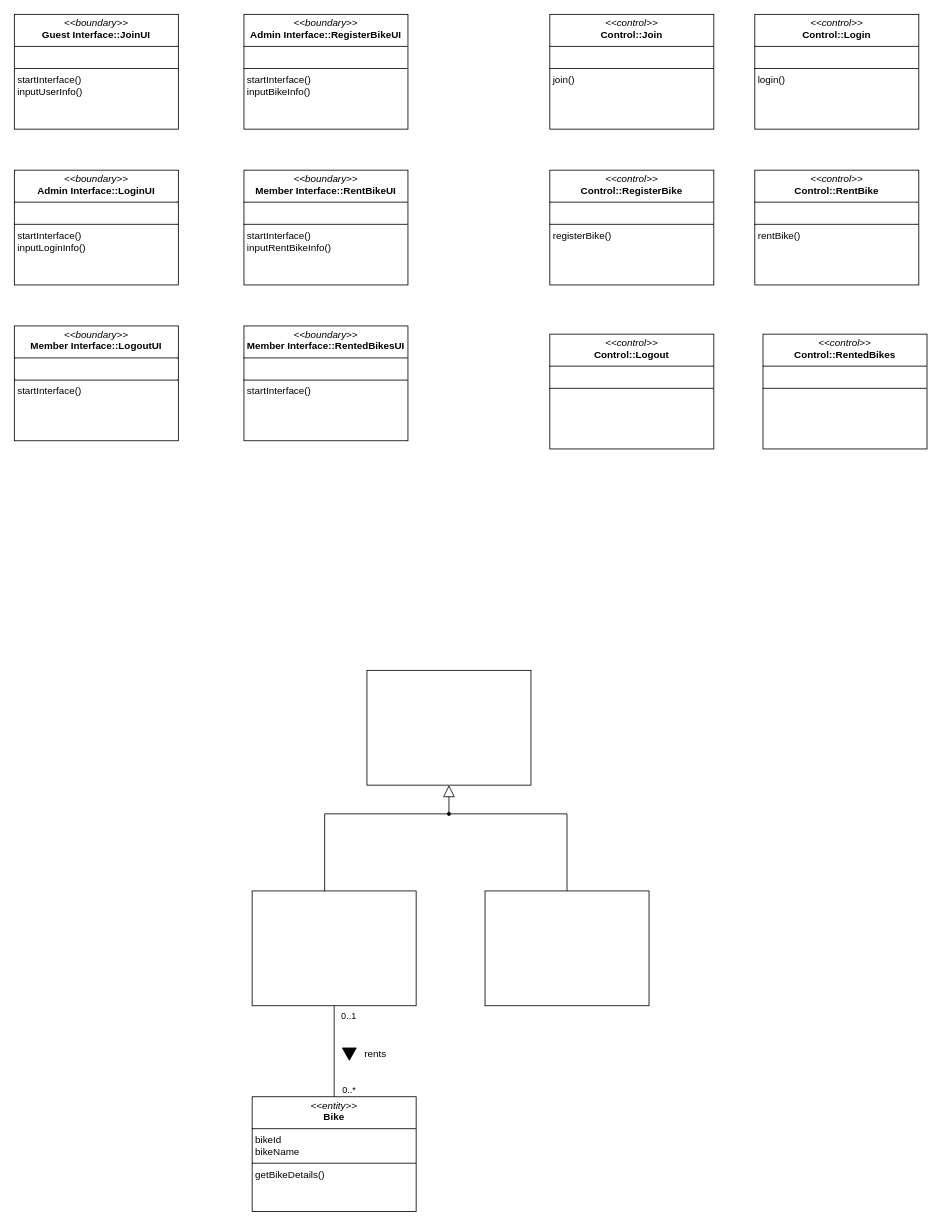
Image size: 941x1226. Some labels were removed from this diagram. Each missing label, with the centre of its shape:
"<<entity>> Admin" belongs at (x=566, y=948).
"<<entity>> Member phoneNum rentBike() listBikes()" belongs at (x=333, y=948).
"<<entity>> User userId password getUserDetails() getUserId()" belongs at (x=448, y=727).
